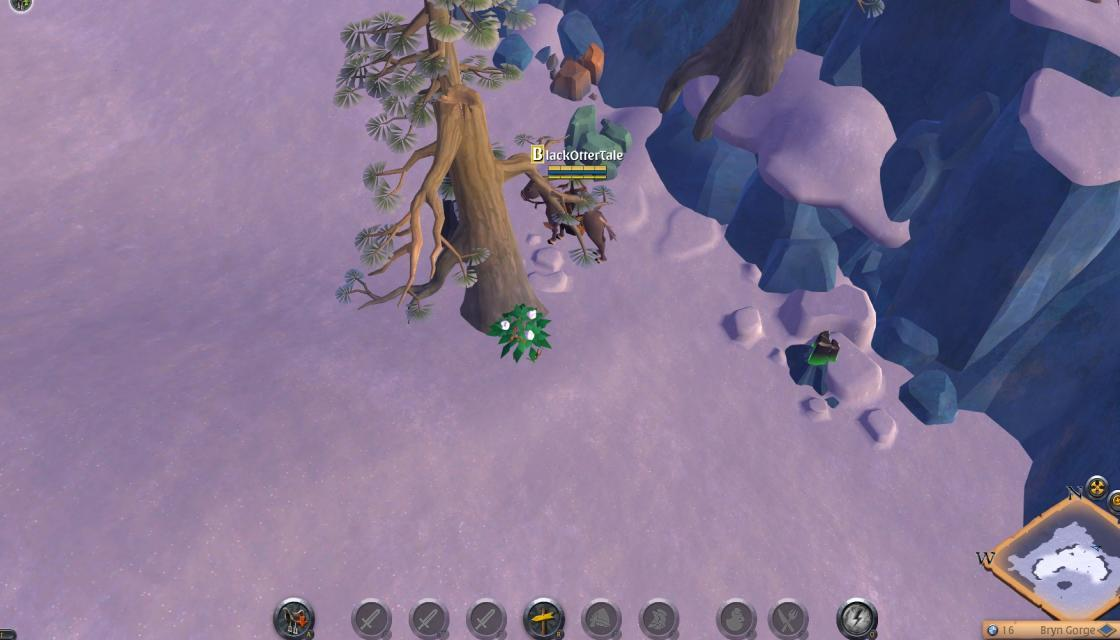limestone: (542, 35, 608, 105)
sandstone: (558, 101, 634, 182)
tinore: (782, 326, 849, 394)
